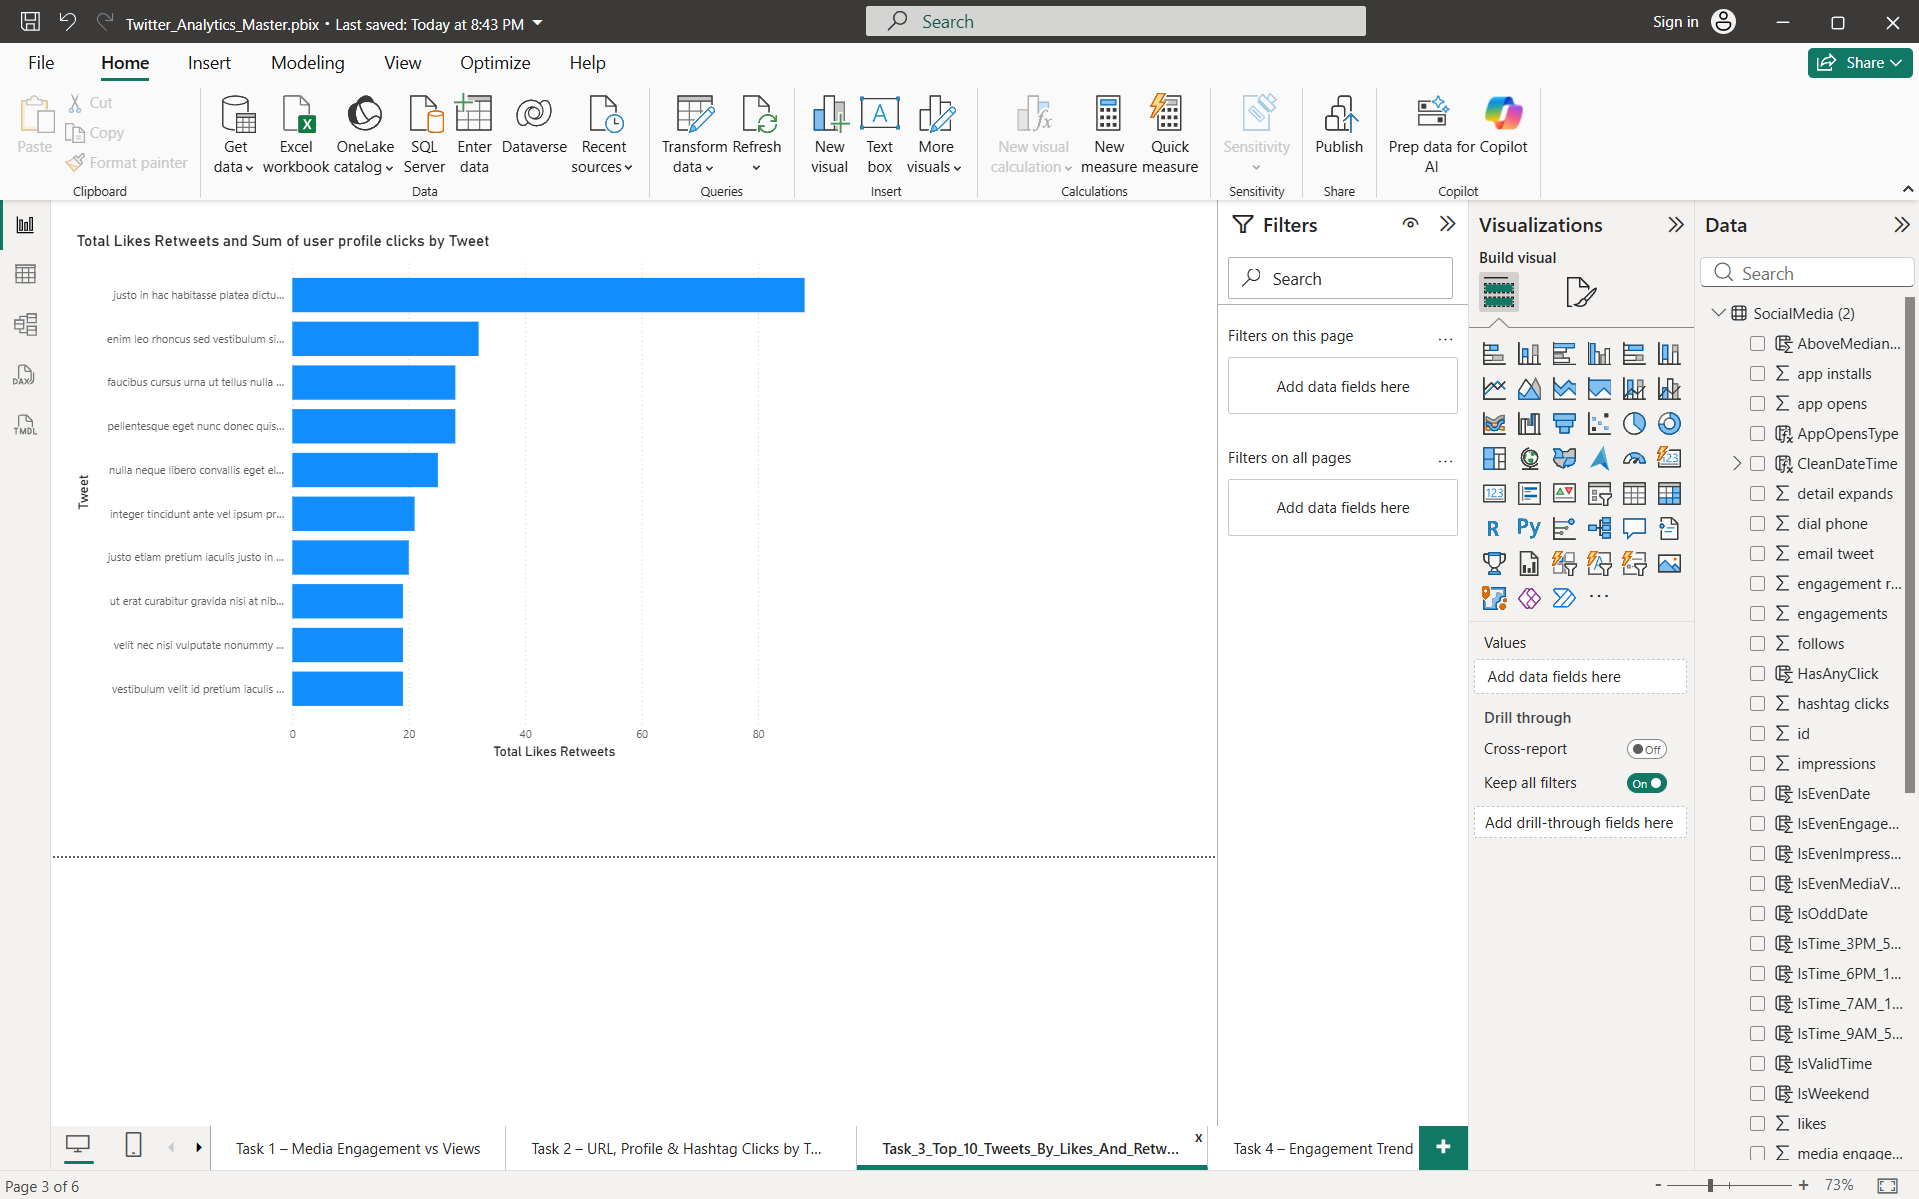

This screenshot's page, from the dashboard's own definition file:
{"tool":"powerbi","page":{"name":"Task_3_Top_10_Tweets_By_Likes_And_Retweets_Weekdays_3PM_5PM.pbix","canvas":[1280,720],"ordinal":2},"visuals":[{"type":"clusteredBarChart","fields":{"Y":["SocialMedia (2).Total Likes Retweets"],"Category":["SocialMedia (2).Tweet"]},"box":[23,34,829,584],"z":0}]}

Visuals, with their boxes on the page's 1280x720 design canvas (x1, y1, x2, y2). These are canvas units, not pixel positions in the 1919x1199 screenshot, which may show the page scaled, cropped or inside an application window:
clusteredBarChart - SocialMedia (2).Total Likes Retweets x SocialMedia (2).Tweet: {"left": 23, "top": 34, "right": 852, "bottom": 618}
